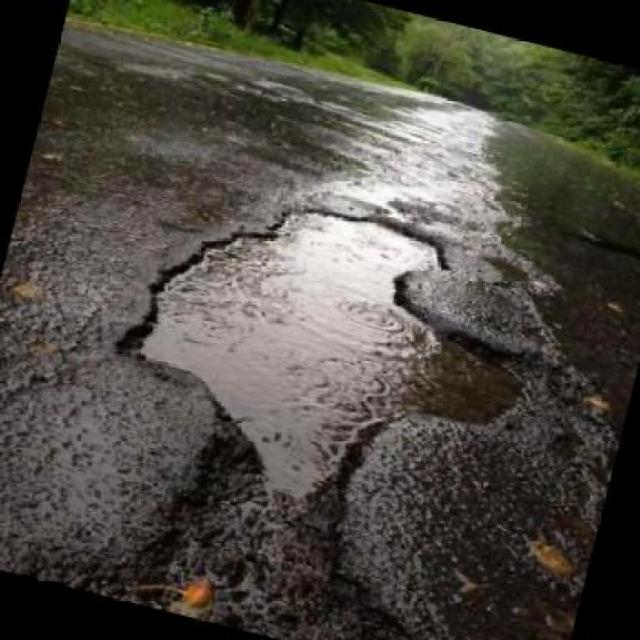pothole1: (83, 154, 562, 540)
